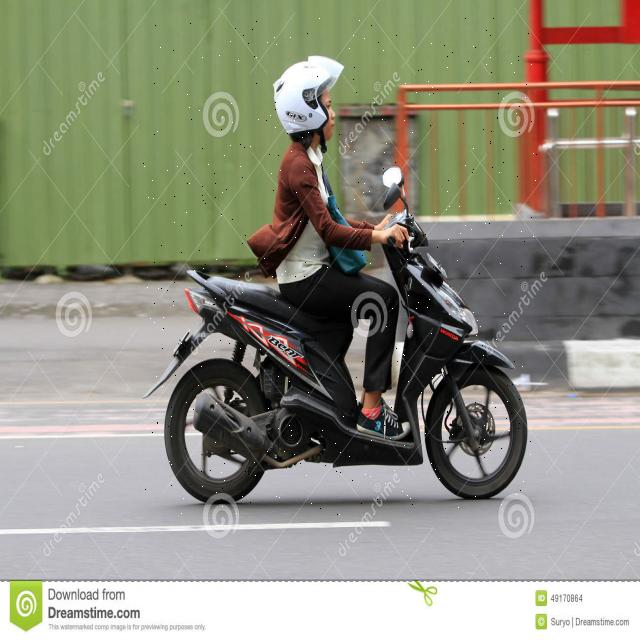With Helmet: (142, 18, 537, 517)
